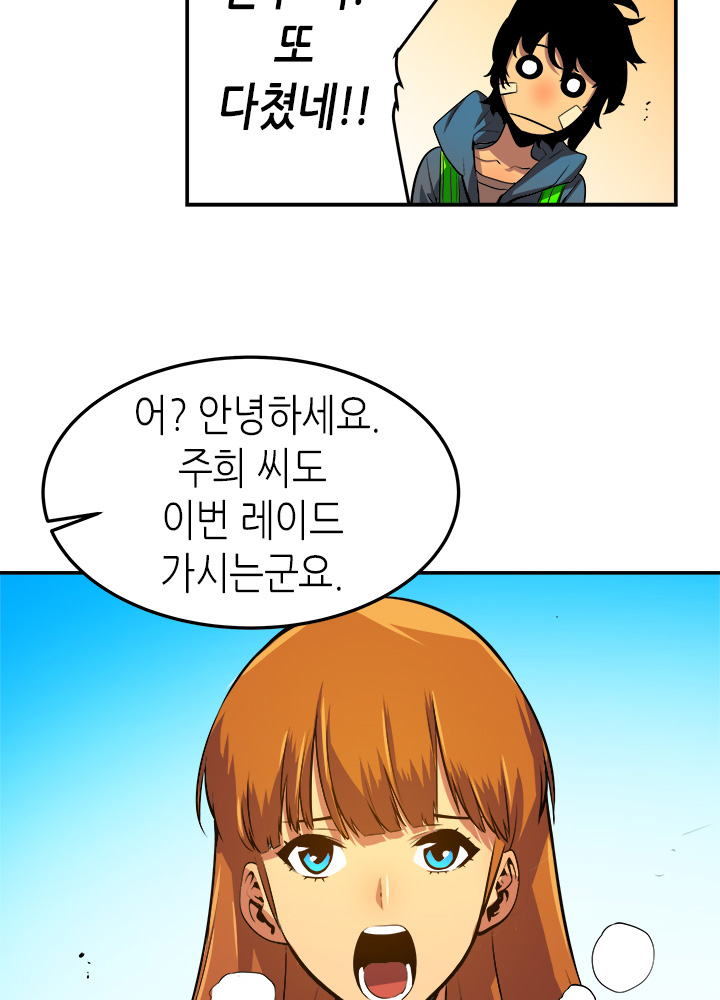dialog box: (16, 313, 502, 679), (149, 1, 454, 238)
text: (108, 369, 409, 624), (204, 1, 390, 161)
